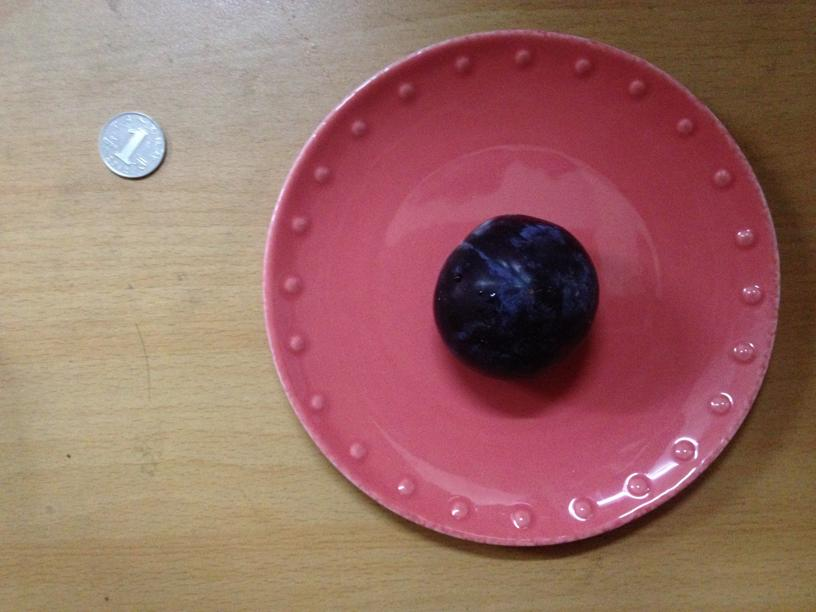coin: (88, 114, 171, 179)
plum: (427, 209, 601, 377)
